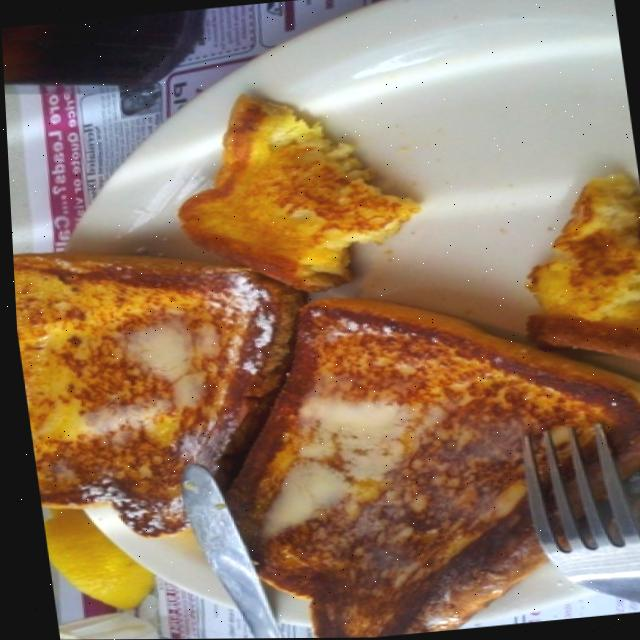面包点心: (1, 17, 640, 640)
